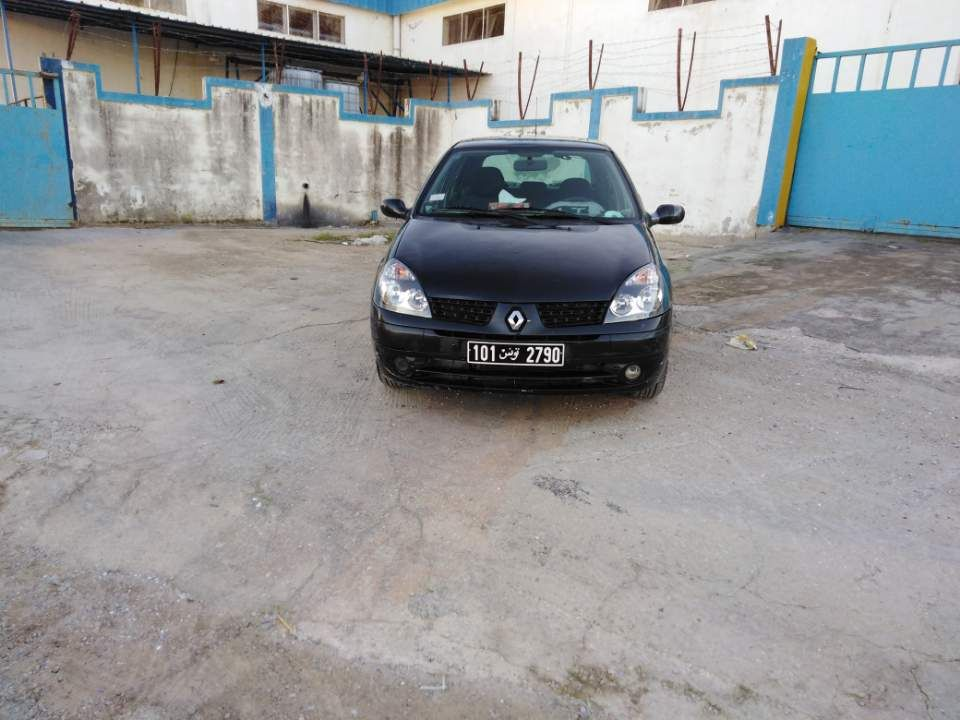LP: (467, 341, 564, 366)
